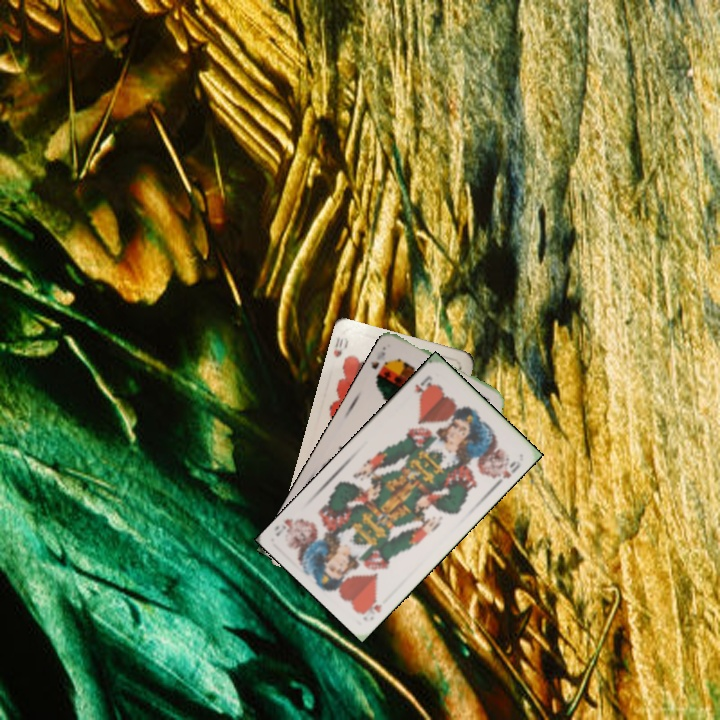H10: (329, 334, 351, 360)
HO: (409, 371, 435, 402), (357, 593, 385, 617)
SO: (372, 342, 391, 383)
